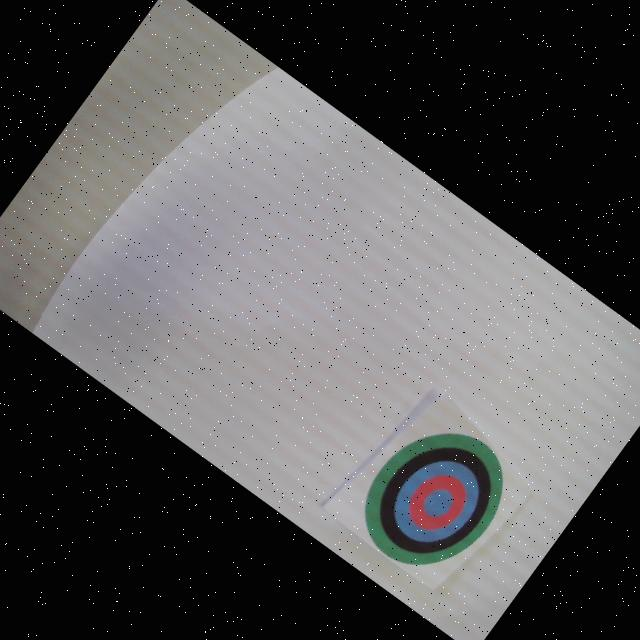COGNITIVE: (340, 402, 528, 594)
